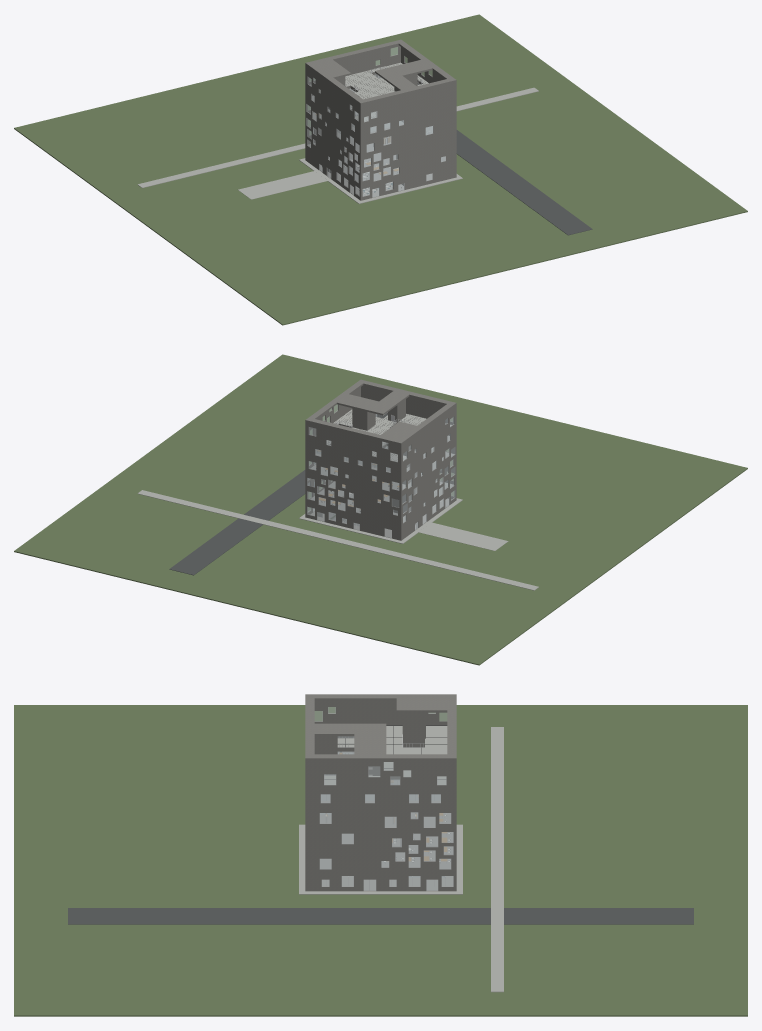
3 views of the same model, one above another, from view 1: azimuth 30°, elevation 25°; view 2: azimuth 150°, elevation 25°; view 3: azimuth 270°, elevation 25° (orthographic). The views are drawn at different scales.
Visible parts, largest first — view 1: Furniture support repairs, 20_Complete_Architecture; view 2: Furniture support repairs, 20_Complete_Architecture; view 3: Furniture support repairs, 20_Complete_Architecture.
Boxes of the visible parts, left/top/right/bottom form: Furniture support repairs: left=14, top=14, right=747, bottom=325; 20_Complete_Architecture: left=137, top=39, right=592, bottom=235; Furniture support repairs: left=14, top=354, right=747, bottom=665; 20_Complete_Architecture: left=137, top=379, right=538, bottom=590; Furniture support repairs: left=14, top=705, right=747, bottom=1016; 20_Complete_Architecture: left=68, top=694, right=693, bottom=992.
Size of the model in its own units: 170 by 38.84 by 170.
Materials: 13 (2 with a texture image).
